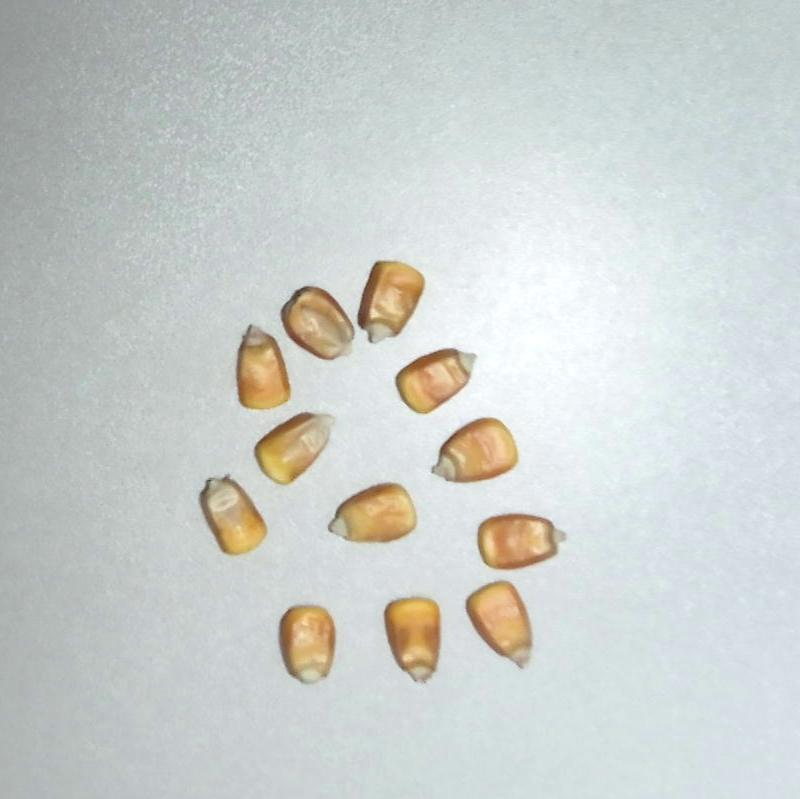corn: (246, 392, 346, 493), (271, 277, 369, 377), (460, 574, 550, 679), (421, 410, 525, 499), (389, 331, 487, 421), (185, 466, 273, 564), (346, 253, 430, 354), (321, 477, 422, 555), (475, 508, 569, 572), (231, 322, 292, 412), (384, 597, 442, 685), (280, 605, 335, 683)
